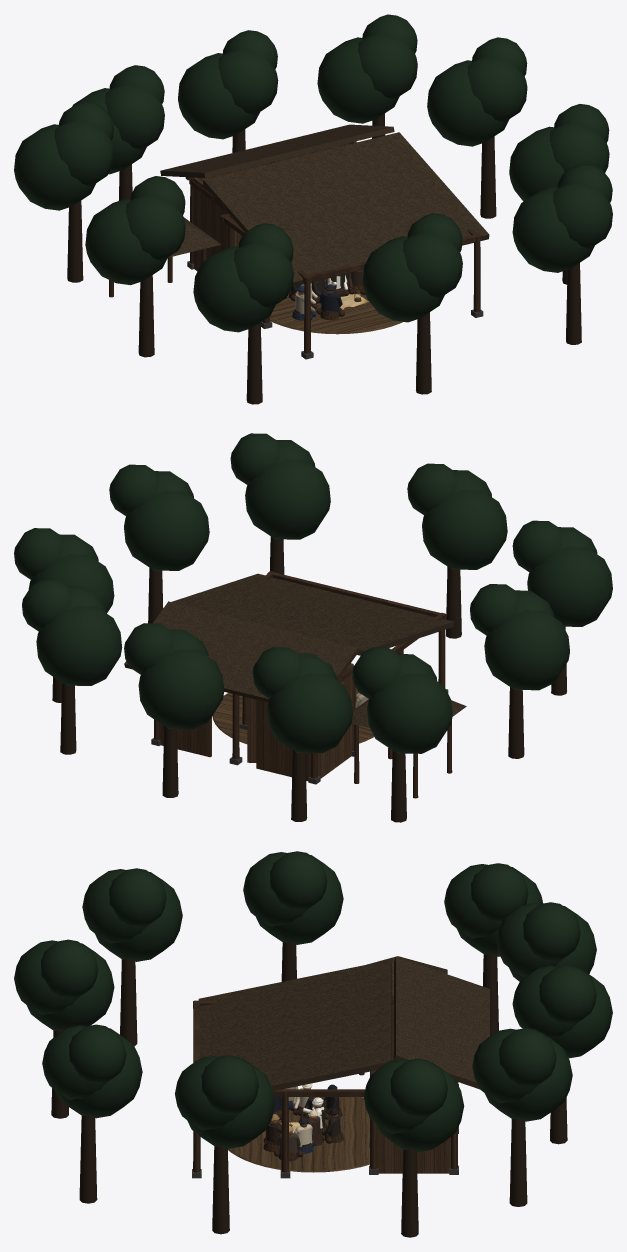
Rendered from 15.Konsolidasi_Sebelum_Fajar_1888_3D.glb.
3 views of the same model, one above another, from view 1: azimuth 30°, elevation 25°; view 2: azimuth 150°, elevation 25°; view 3: azimuth 270°, elevation 25° (orthographic). The views are drawn at different scales.
Visible parts, largest first — view 1: Rumbia_Thatch_Roof, Village_Tree_1, Village_Tree_9, Village_Tree_5, Village_Tree_8, Village_Tree_7, Village_Tree_10, Village_Tree_3, Village_Tree_4, Village_Tree_6, Village_Tree_2, Woven_Gathering_Mat (+5 smaller); view 2: Rumbia_Thatch_Roof, Village_Tree_2, Village_Tree_3, Village_Tree_1, Village_Tree_10, Village_Tree_4, Village_Tree_8, Village_Tree_6, Village_Tree_7, Village_Tree_9, Village_Tree_5, Traditional_Banten_Wooden_Hut (+4 smaller); view 3: Rumbia_Thatch_Roof, Village_Tree_4, Village_Tree_6, Village_Tree_7, Village_Tree_5, Village_Tree_9, Village_Tree_10, Village_Tree_8, Village_Tree_3, Village_Tree_1, Village_Tree_2, Woven_Gathering_Mat (+3 smaller).
Boxes of the visible parts, left/top/right/bottom form: Rumbia_Thatch_Roof: left=160, top=124, right=489, bottom=286; Village_Tree_1: left=14, top=101, right=114, bottom=282; Village_Tree_9: left=193, top=223, right=293, bottom=404; Village_Tree_5: left=427, top=37, right=527, bottom=218; Village_Tree_8: left=362, top=213, right=462, bottom=394; Village_Tree_7: left=512, top=163, right=612, bottom=344; Village_Tree_10: left=85, top=176, right=185, bottom=357; Village_Tree_3: left=178, top=30, right=278, bottom=152; Village_Tree_4: left=317, top=14, right=417, bottom=138; Village_Tree_6: left=509, top=104, right=609, bottom=284; Village_Tree_2: left=72, top=65, right=164, bottom=200; Woven_Gathering_Mat: left=269, top=279, right=402, bottom=334; Rumbia_Thatch_Roof: left=124, top=573, right=453, bottom=702; Village_Tree_2: left=252, top=647, right=352, bottom=821; Village_Tree_3: left=124, top=623, right=224, bottom=797; Village_Tree_1: left=352, top=647, right=452, bottom=822; Village_Tree_10: left=470, top=584, right=569, bottom=758; Village_Tree_4: left=22, top=579, right=122, bottom=754; Village_Tree_8: left=407, top=463, right=507, bottom=638; Village_Tree_6: left=109, top=464, right=209, bottom=623; Village_Tree_7: left=230, top=433, right=330, bottom=574; Village_Tree_9: left=512, top=520, right=612, bottom=695; Village_Tree_5: left=14, top=528, right=114, bottom=702; Traditional_Banten_Wooden_Hut: left=151, top=663, right=448, bottom=784; Rumbia_Thatch_Roof: left=198, top=957, right=489, bottom=1090; Village_Tree_4: left=472, top=1028, right=572, bottom=1206; Village_Tree_6: left=175, top=1055, right=275, bottom=1234; Village_Tree_7: left=42, top=1024, right=142, bottom=1203; Village_Tree_5: left=363, top=1058, right=464, bottom=1237; Village_Tree_9: left=82, top=868, right=182, bottom=1046; Village_Tree_10: left=243, top=851, right=343, bottom=981; Village_Tree_8: left=14, top=939, right=114, bottom=1118; Village_Tree_3: left=512, top=965, right=612, bottom=1144; Village_Tree_1: left=444, top=863, right=542, bottom=1035; Village_Tree_2: left=496, top=902, right=596, bottom=981; Woven_Gathering_Mat: left=228, top=1097, right=369, bottom=1172.
Size of what is drawn, in the model's own units: 15 by 4.95 by 14.9.
96 materials, 9 textured.
